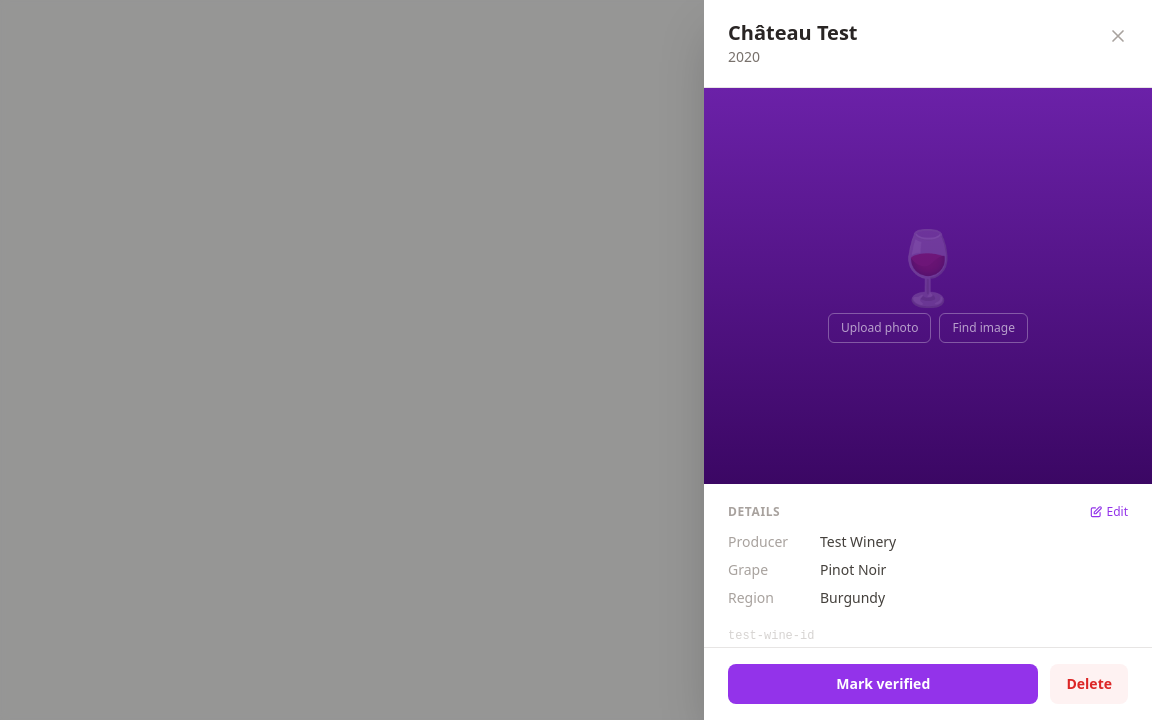
it: saveEdit shows validation error when name is empty
This screenshot has width=1152, height=720.
Click the button "Edit" at [1108, 512], box x1=1088 y1=504 x2=1128 y2=520
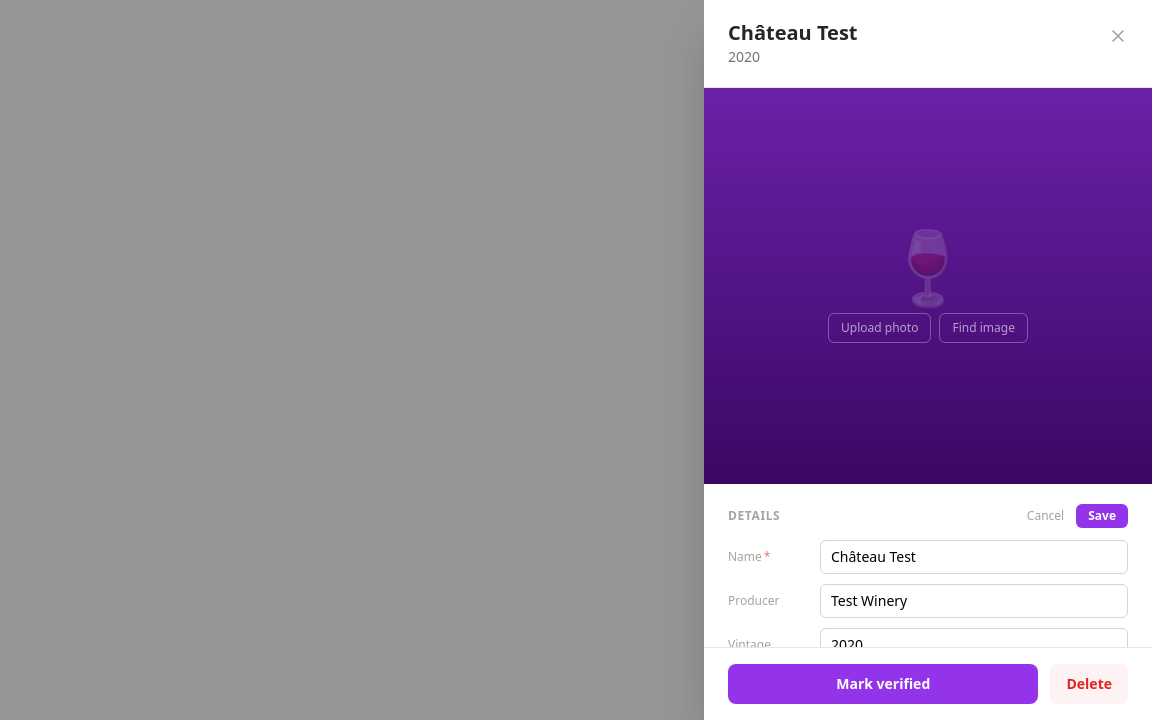
Clear the field showing "Château Test" next to "Name" at [974, 557], box x1=820 y1=540 x2=1128 y2=574
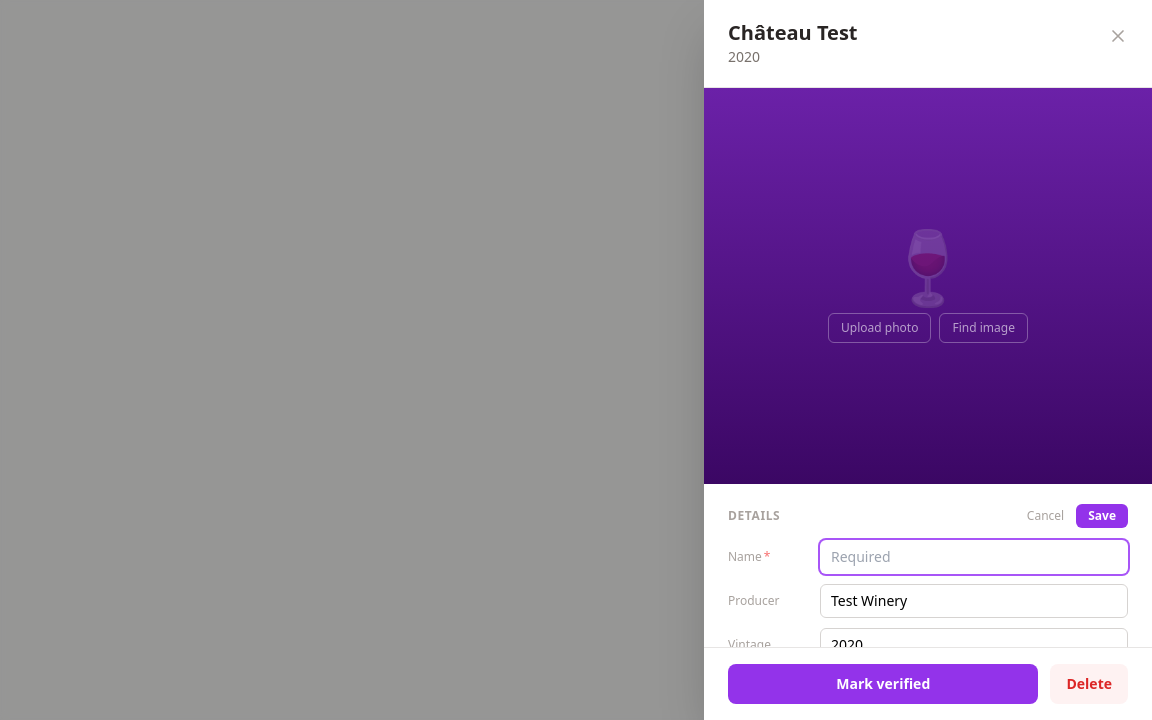
Click the button "Save" at [1102, 516], box x1=1076 y1=504 x2=1128 y2=528
(page scrolled)
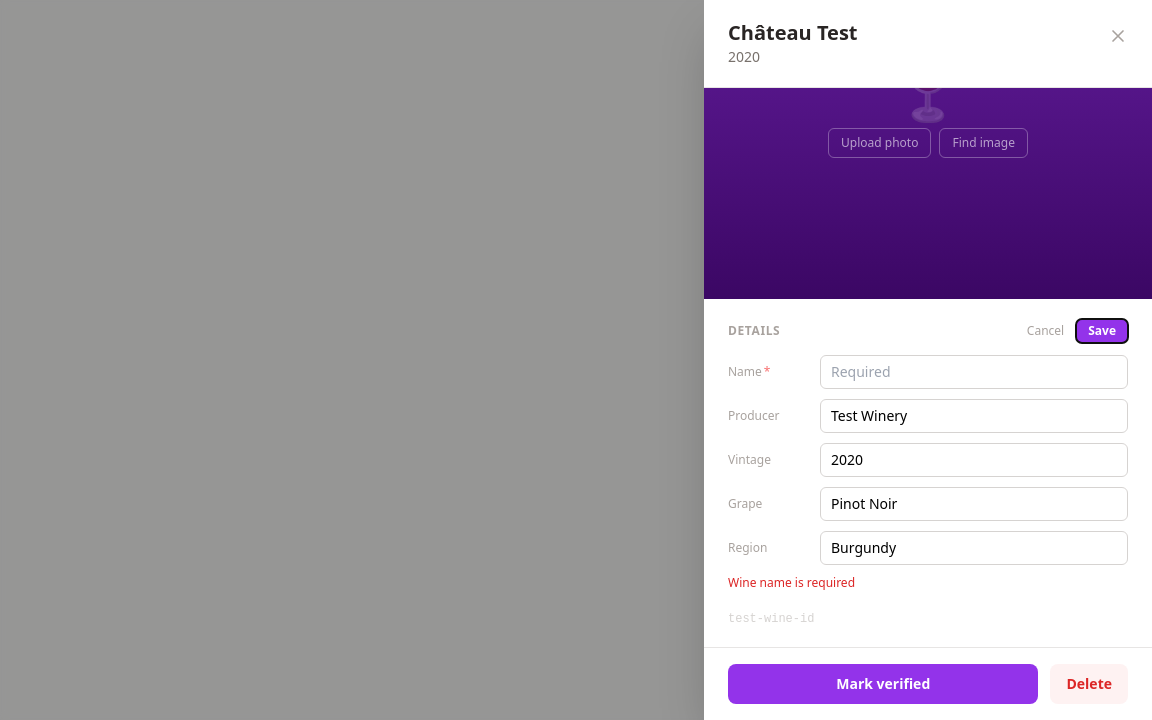
Result: the text "Wine name is required" is shown at x1=728 y1=574 x2=855 y2=591
